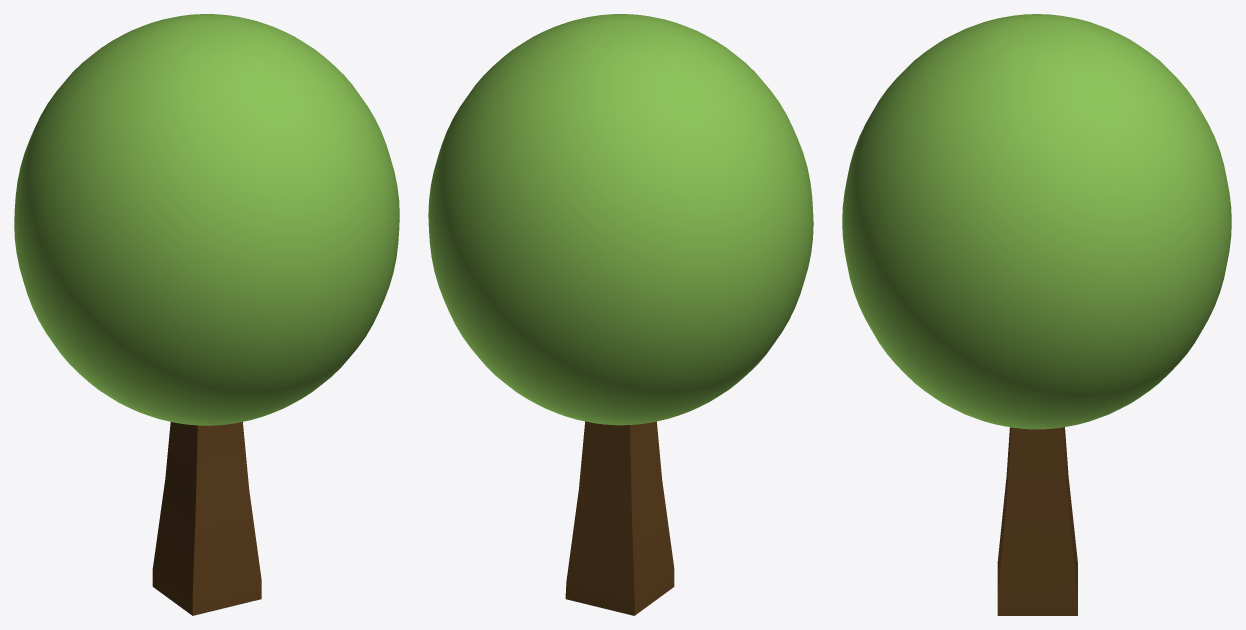
The model's file is treeLP3.glb.
3 views of the same model, side by side, from view 1: azimuth 30°, elevation 25°; view 2: azimuth 150°, elevation 25°; view 3: azimuth 270°, elevation 25° (orthographic).
Parts seen in each view (by area): view 1: Sphere.002, Cube.002; view 2: Sphere.002, Cube.002; view 3: Sphere.002, Cube.002.
Boxes of the visible parts, x1,y1,x2,y2 form: Sphere.002: (14,14,399,425); Cube.002: (152,422,261,615); Sphere.002: (428,14,813,425); Cube.002: (565,421,674,615); Sphere.002: (842,14,1231,429); Cube.002: (997,427,1077,615).
Bounding box in the file's own units: 3.93 × 6.32 × 3.93.
